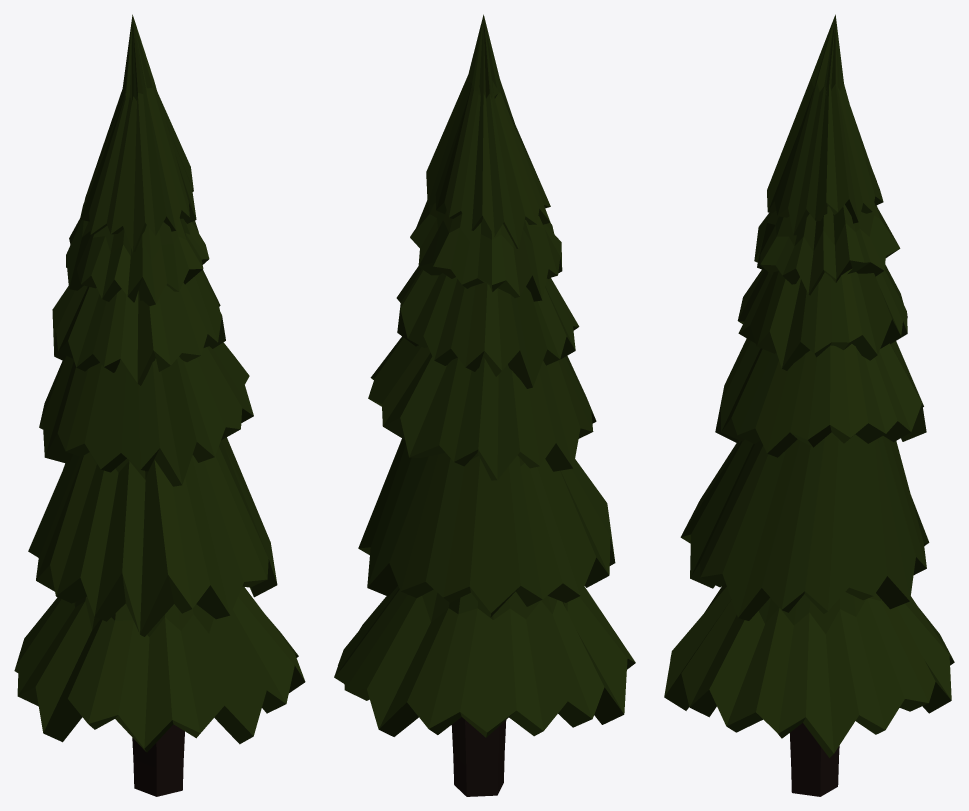
Rendered from Pine_04.obj.
3 views of the same model, side by side, from view 1: azimuth 30°, elevation 25°; view 2: azimuth 150°, elevation 25°; view 3: azimuth 270°, elevation 25° (orthographic). The views are drawn at different scales.
Visible parts, largest first — view 1: Cylinder.001, Cylinder; view 2: Cylinder.001, Cylinder; view 3: Cylinder.001, Cylinder.
Part boxes in pixels (x1=…): Cylinder.001: x1=14, y1=14, x2=305, y2=752; Cylinder: x1=132, y1=724, x2=184, y2=796; Cylinder.001: x1=334, y1=14, x2=635, y2=737; Cylinder: x1=451, y1=717, x2=506, y2=796; Cylinder.001: x1=664, y1=14, x2=954, y2=757; Cylinder: x1=789, y1=723, x2=839, y2=796.
Bounding box in the file's own units: 2.85 × 8.15 × 2.8.
